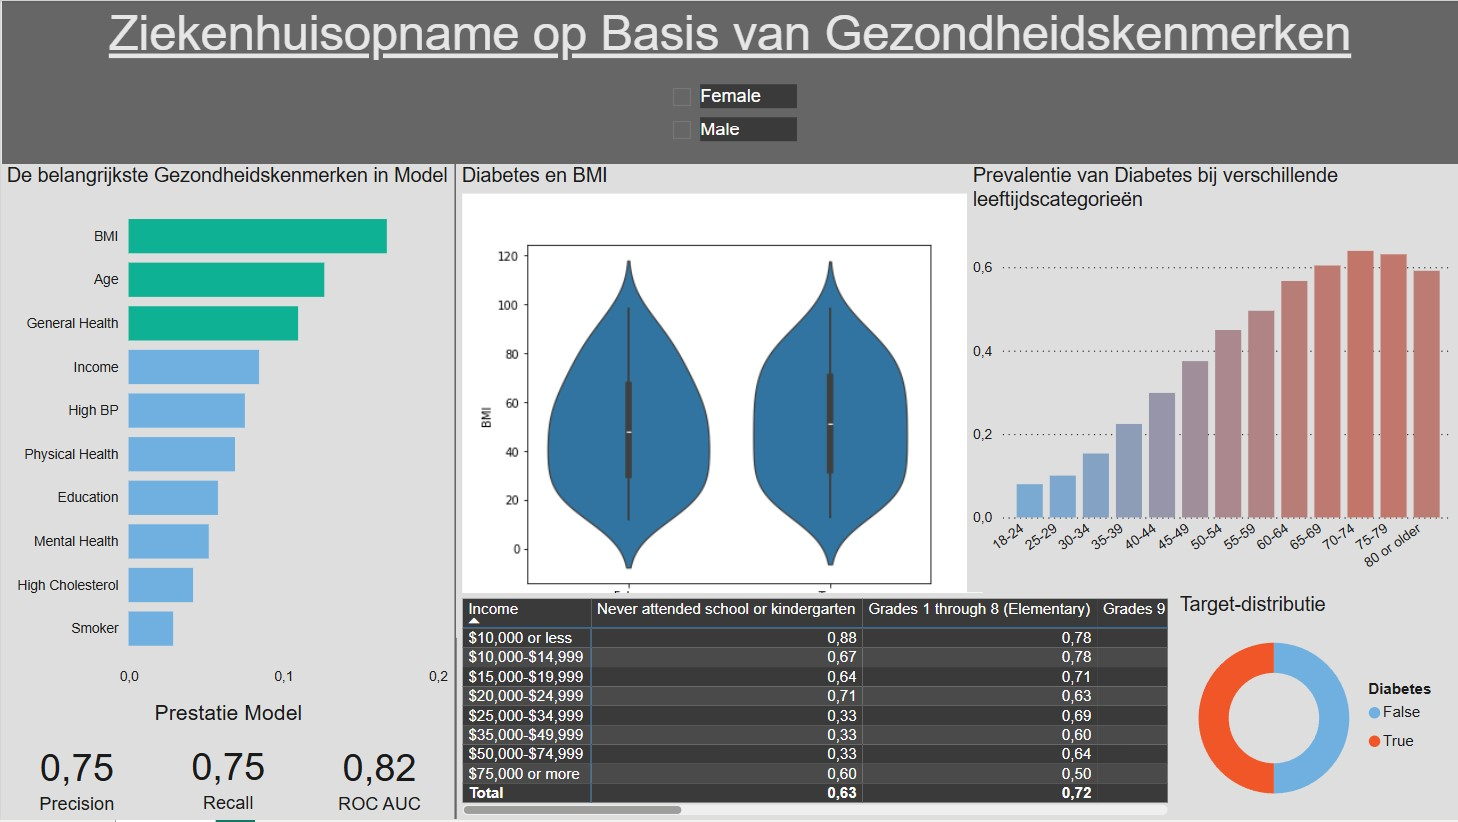

This screenshot's page, from the dashboard's own definition file:
{"tool":"powerbi","page":{"name":"Dashboard","canvas":[1280,720],"ordinal":0},"visuals":[{"type":"textbox","box":[0,0,1280.3,144.5],"z":0},{"type":"slicer","fields":{"Values":["diabetes_binary_5050split_health_indicators_BRFSS2015.Sex"]},"box":[576.7,64.6,126.9,69.3],"z":1000},{"type":"donutChart","title":"Target-distributie","fields":{"Category":["diabetes_binary_5050split_health_indicators_BRFSS2015.Diabetes_binary"],"Y":["CountNonNull(diabetes_binary_5050split_health_indicators_BRFSS2015.Diabetes_binary)"]},"box":[1029.8,520.3,250.5,199.7],"z":2000},{"type":"clusteredBarChart","title":"De belangrijkste Gezondheidskenmerken in Model","fields":{"Y":["Sum(feature_importance.Importance)"],"Category":["feature_importance.Feature"]},"box":[0,144,400.5,465.9],"z":3000},{"type":"card","fields":{"Values":["_measures.Precision"]},"box":[0,643.8,133.1,76.2],"z":4000},{"type":"card","fields":{"Values":["_measures.Recall"]},"box":[133.1,642.6,131.9,76.2],"z":5000},{"type":"card","fields":{"Values":["_measures.ROC AUC"]},"box":[265,643.8,134.3,76.2],"z":6000},{"type":"textbox","box":[0,609.9,399.3,33.9],"z":7000},{"type":"shape","box":[392.1,142.8,13.3,576],"z":8000},{"type":"pythonVisual","title":"Diabetes en BMI","fields":{"Values":["diabetes_binary_5050split_health_indicators_BRFSS2015.Diabetes_binary","diabetes_binary_5050split_health_indicators_BRFSS2015.BMI"]},"box":[399.1,143.7,467.2,415.8],"z":9000},{"type":"columnChart","title":"Prevalentie van Diabetes bij verschillende leeftijdscategorieën","fields":{"Category":["diabetes_binary_5050split_health_indicators_BRFSS2015.Age"],"Y":["Avg(diabetes_binary_5050split_health_indicators_BRFSS2015.Diabetes binary - Copy)"]},"box":[848.3,144,432,376.3],"z":10000},{"type":"pivotTable","fields":{"Rows":["diabetes_binary_5050split_health_indicators_BRFSS2015.Income"],"Columns":["diabetes_binary_5050split_health_indicators_BRFSS2015.Education"],"Values":["Avg(diabetes_binary_5050split_health_indicators_BRFSS2015.Diabetes binary - Copy)"]},"box":[400.5,520.3,629.2,199.7],"z":11000}]}

Visuals, with their boxes in screenshot pixels (x1, y1, x2, y2), scaled from the page's 1280x720 canvas onto the 1458x822 screenshot:
textbox: BBox(0, 0, 1457, 165)
slicer - diabetes_binary_5050split_health_indicators_BRFSS2015.Sex: BBox(657, 74, 801, 153)
"Target-distributie" donutChart: BBox(1173, 594, 1457, 821)
"De belangrijkste Gezondheidskenmerken in Model" clusteredBarChart: BBox(0, 164, 456, 696)
card - _measures.Precision: BBox(0, 735, 152, 821)
card - _measures.Recall: BBox(152, 734, 302, 821)
card - _measures.ROC AUC: BBox(302, 735, 455, 821)
textbox: BBox(0, 696, 455, 735)
shape: BBox(447, 163, 462, 821)
"Diabetes en BMI" pythonVisual: BBox(455, 164, 987, 639)
"Prevalentie van Diabetes bij verschillende leeftijdscategorieën" columnChart: BBox(966, 164, 1457, 594)
pivotTable - diabetes_binary_5050split_health_indicators_BRFSS2015.Income x diabetes_binary_5050split_health_indicators_BRFSS2015.Education: BBox(456, 594, 1173, 821)
